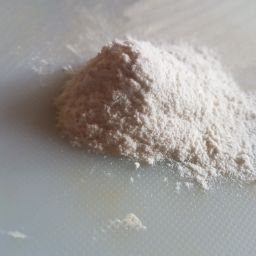Plain flour: (59, 70, 256, 199), (38, 29, 256, 138), (48, 40, 200, 164), (132, 57, 256, 193)
